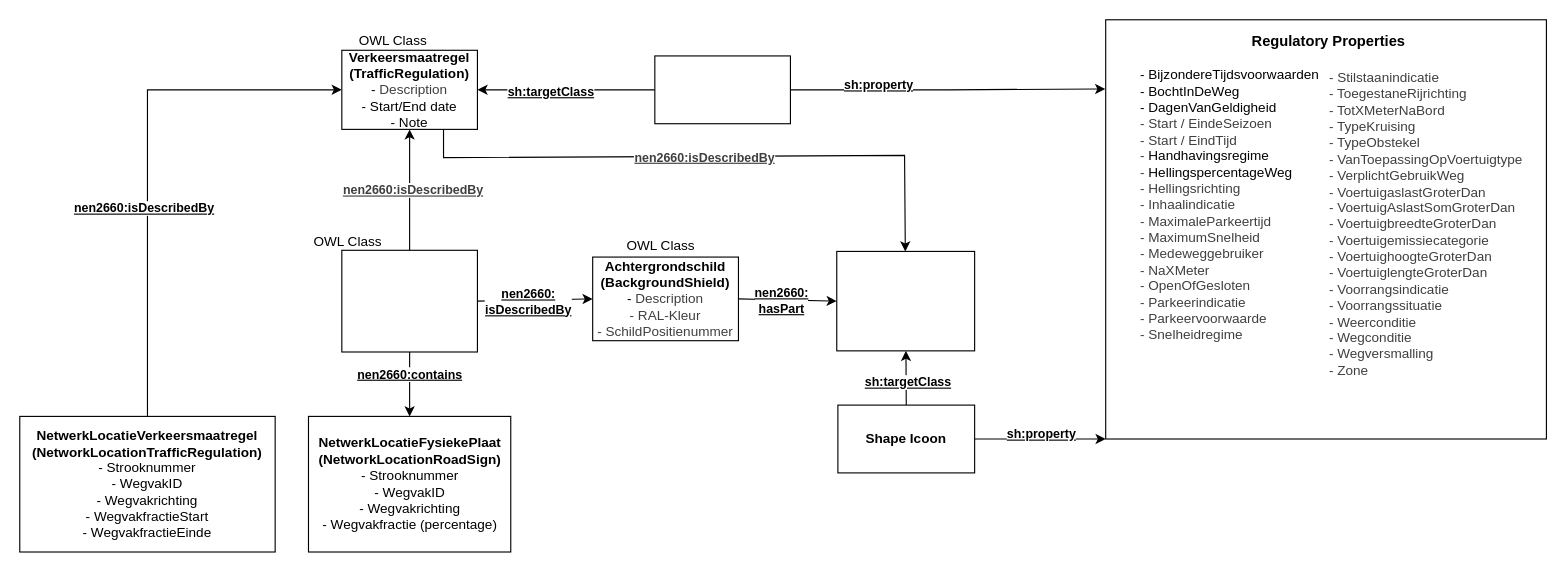
This 1566x572 diagram has some shape labels left out. The box of each missing label's shape, as (x1, y1, x2, y2) in pixels:
FysiekePlaat ( RoadSign ) - Description - Geo-oriëntatiehoek - ObjectStatus: (341, 249, 477, 352)
Icoon (Icon) - Description - Nnote - rvvCode - IcoonPositienummer: (836, 250, 975, 351)
Shape Verkeersmaatregel: (654, 55, 790, 124)
